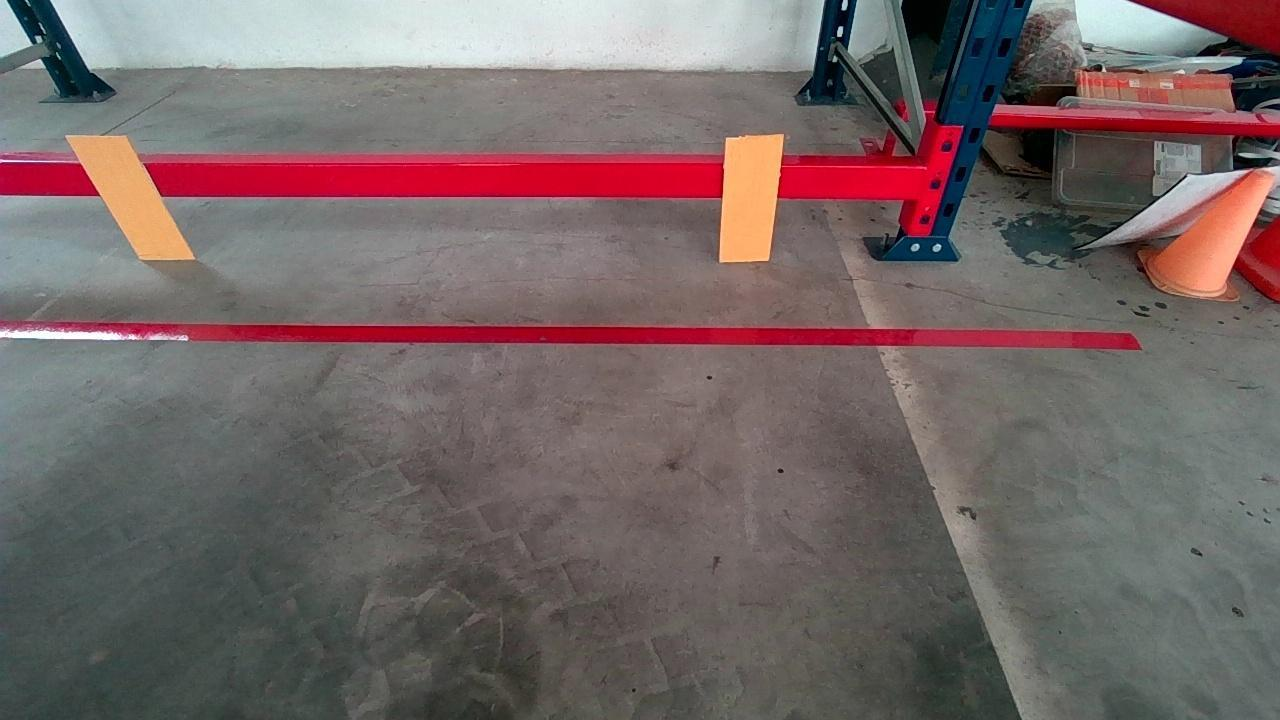h_rack: (8, 157, 920, 205)
orange_strip: (66, 135, 195, 259), (719, 135, 781, 261)
red_line: (5, 313, 1138, 357)
